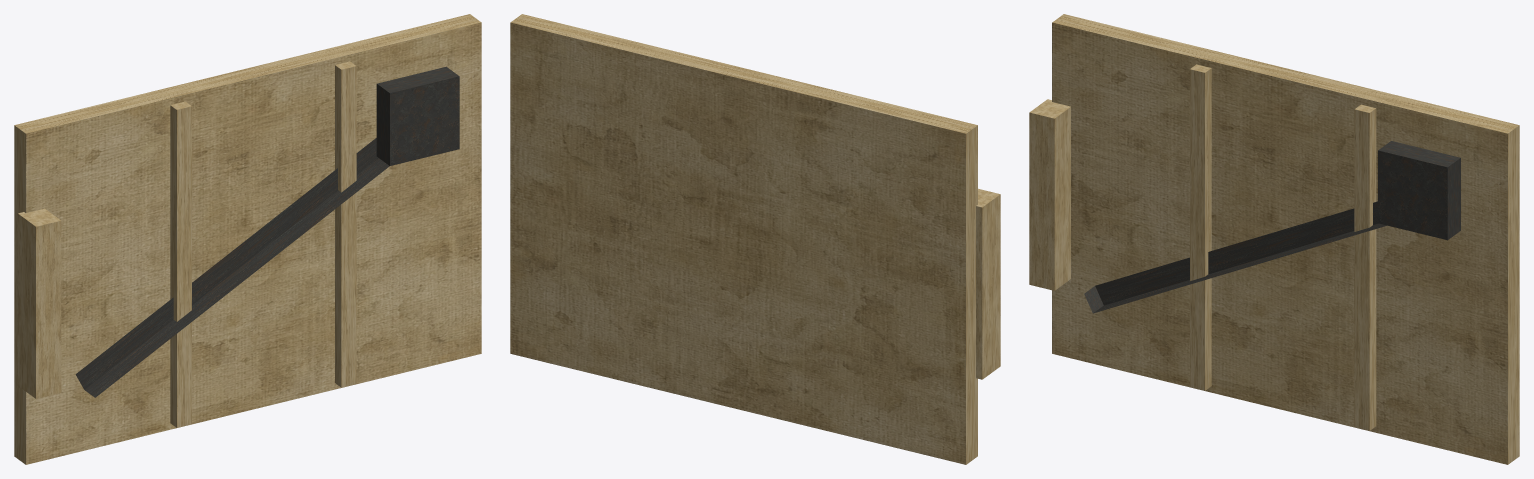
File: ITM_MAP_FRAGMENT_001.obj
3 views of the same model, side by side, from view 1: azimuth 30°, elevation 25°; view 2: azimuth 150°, elevation 25°; view 3: azimuth 330°, elevation 25° (orthographic).
Parts seen in each view (by area): view 1: FictionalMapSurface, ReadableRouteLine, PrimaryGripMargin, SignalDestinationShape, FoldRidgeRight, FoldRidgeLeft; view 2: FictionalMapSurface, PrimaryGripMargin; view 3: FictionalMapSurface, PrimaryGripMargin, FoldRidgeRight, ReadableRouteLine, SignalDestinationShape, FoldRidgeLeft.
Part boxes in pixels (left/top/right/bottom): FictionalMapSurface: left=14, top=14, right=481, bottom=464; ReadableRouteLine: left=75, top=138, right=389, bottom=397; PrimaryGripMargin: left=17, top=208, right=61, bottom=398; SignalDestinationShape: left=376, top=66, right=459, bottom=165; FoldRidgeRight: left=335, top=61, right=356, bottom=387; FoldRidgeLeft: left=170, top=101, right=191, bottom=427; FictionalMapSurface: left=510, top=14, right=977, bottom=464; PrimaryGripMargin: left=976, top=188, right=1000, bottom=379; FictionalMapSurface: left=1052, top=14, right=1519, bottom=464; PrimaryGripMargin: left=1029, top=99, right=1070, bottom=290; FoldRidgeRight: left=1354, top=104, right=1376, bottom=430; ReadableRouteLine: left=1084, top=201, right=1386, bottom=313; SignalDestinationShape: left=1378, top=141, right=1460, bottom=240; FoldRidgeLeft: left=1190, top=64, right=1211, bottom=390.
Bounding box in the file's own units: 0.365 × 0.25 × 0.042.
3 materials, 3 textured.
